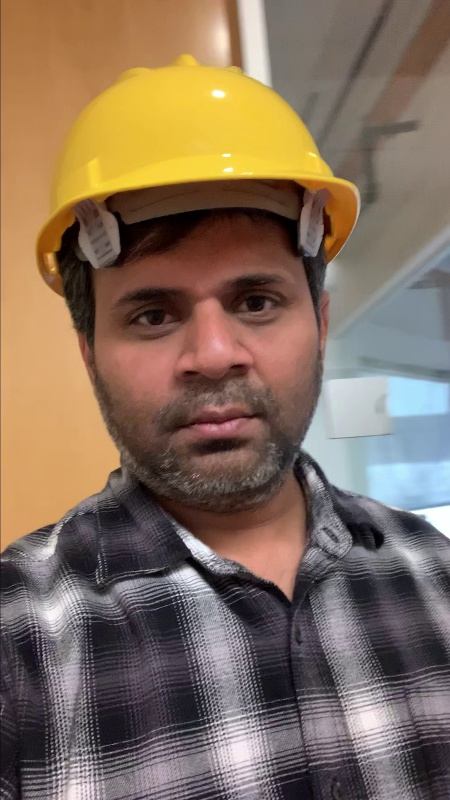helmet: (44, 60, 342, 199)
